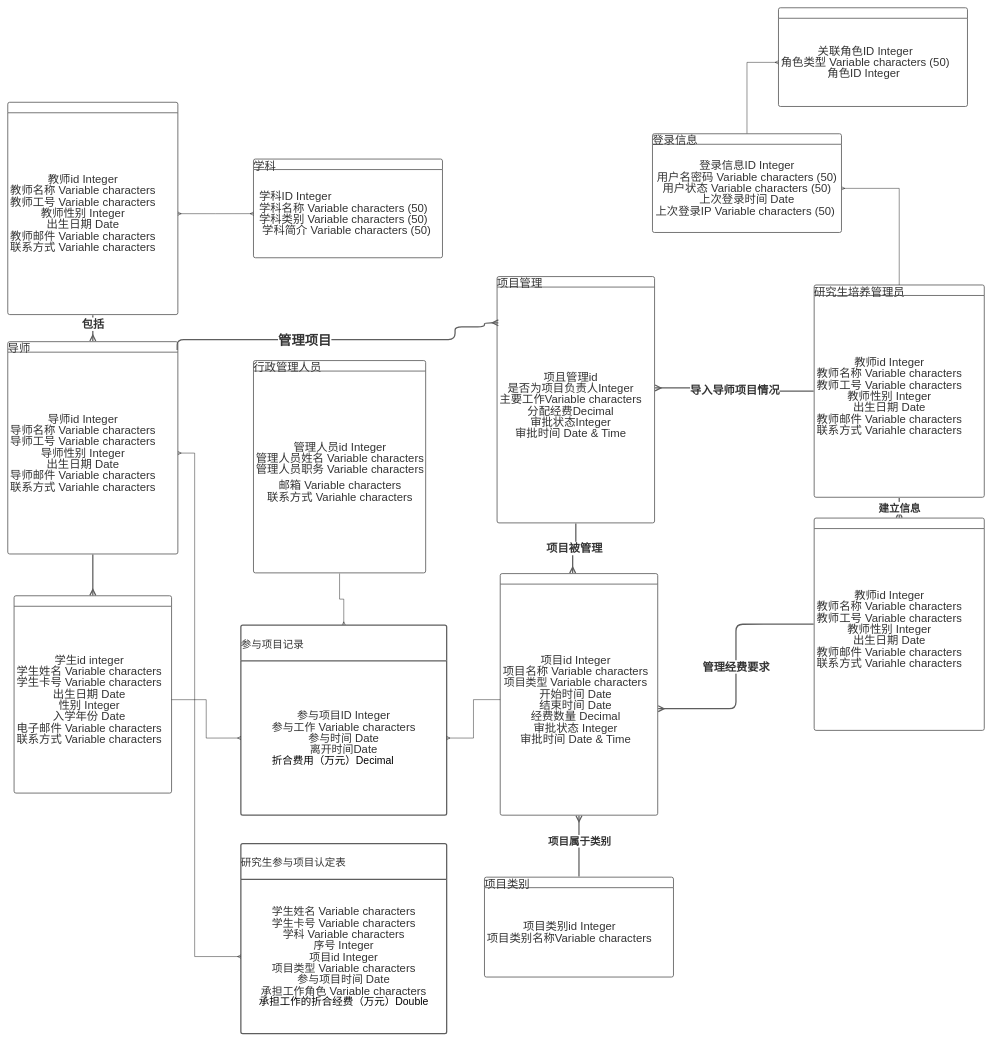
The diagram is 992 pixels wide and 1041 high, and some of its shapes have lost their labels. The shapes that lost their labels are listed below. From the top down, each one's box as (x1, y1, x2, y2) in pixels, then its label:
(778, 7, 968, 107): 用户关联角色
(7, 102, 178, 315): 教师
(814, 517, 984, 731): 学科负责人
(13, 595, 172, 793): 研究生
(500, 573, 658, 815): 项目
